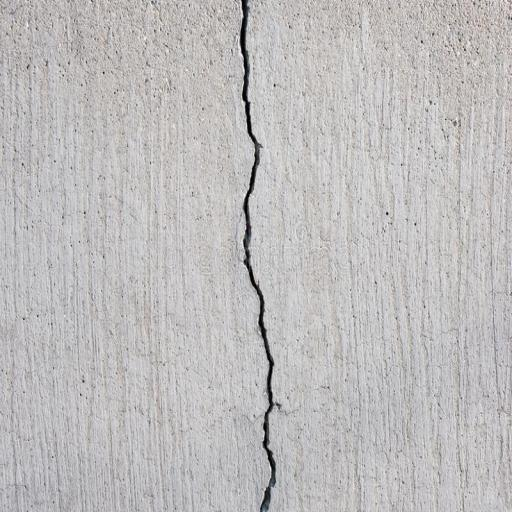spalling: (241, 0, 276, 512)
